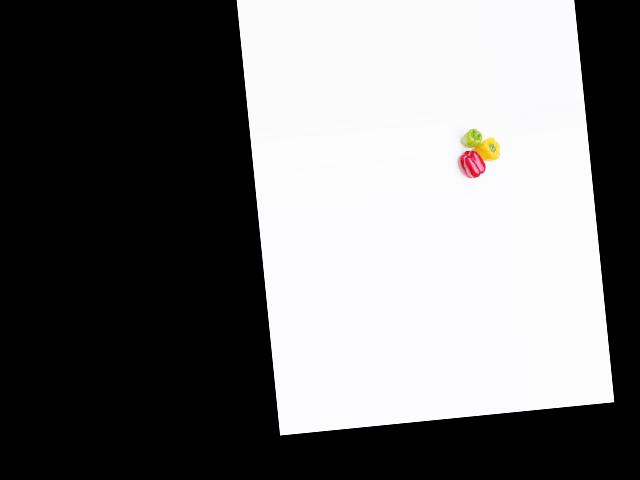bell_pepper: (458, 123, 485, 149)
